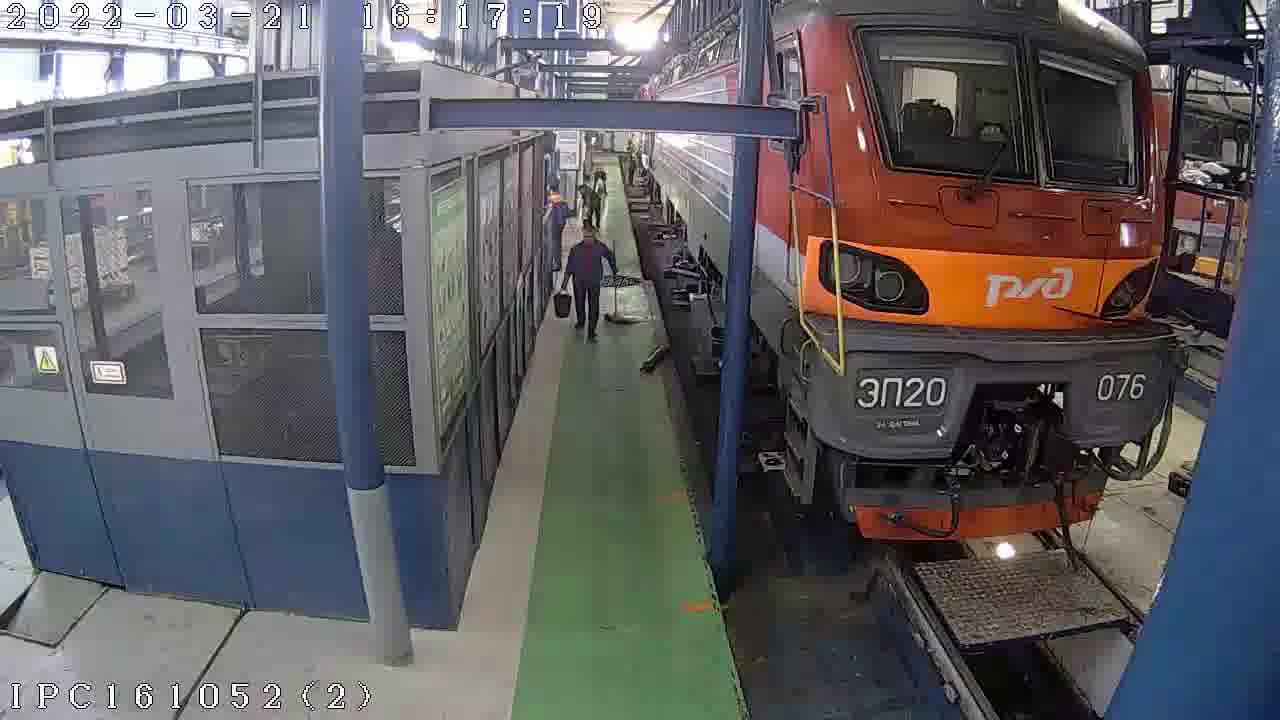person: (562, 220, 619, 343), (543, 176, 572, 273), (577, 184, 604, 226), (619, 138, 639, 190), (589, 164, 611, 193)
worker: (639, 0, 1248, 543)
